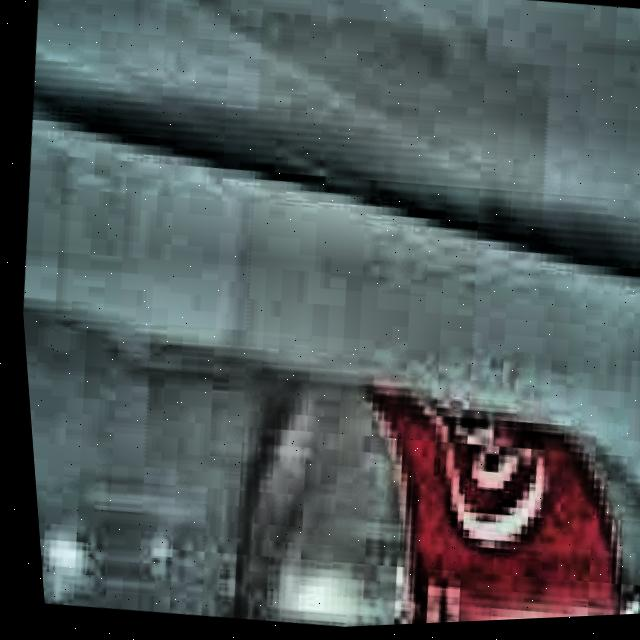plastic: (16, 245, 640, 640)
